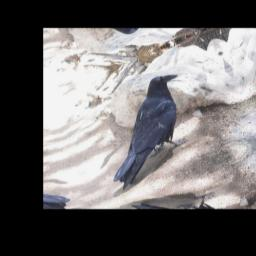Crow: (77, 68, 219, 193)
